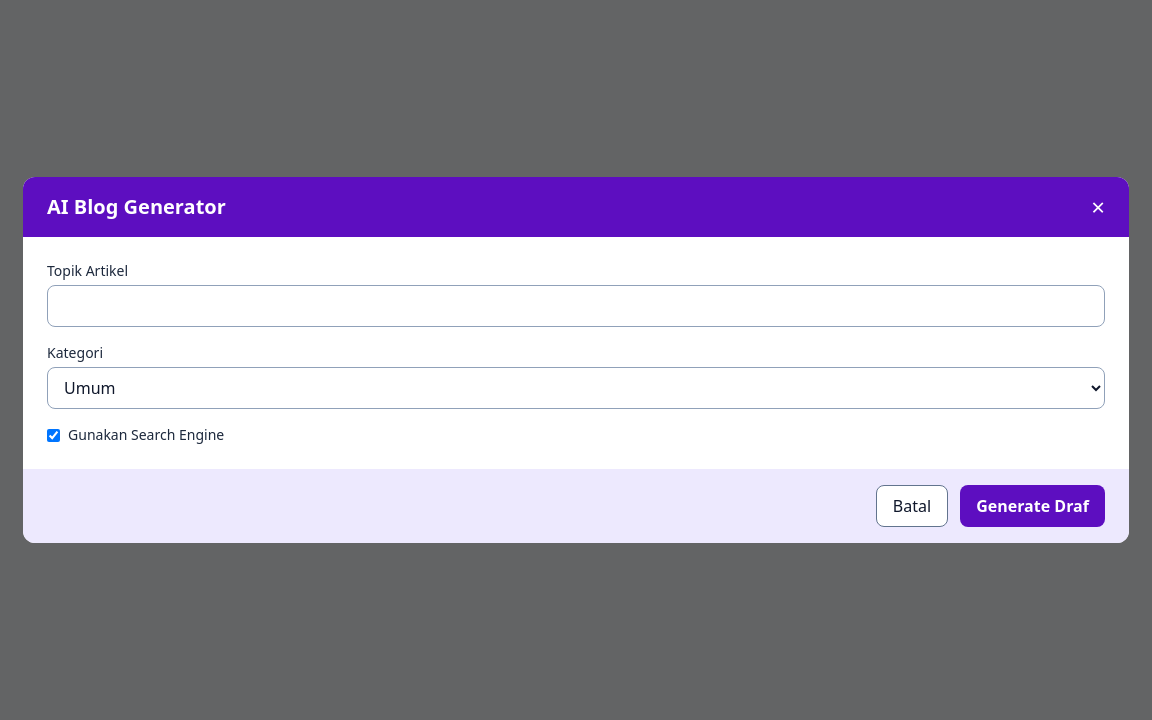
Test: AiPostGeneratorModal › menampilkan error dari API generator
Type "Topik" into the field labelled "Topik Artikel" at (576, 306), box left=47, top=285, right=1105, bottom=327
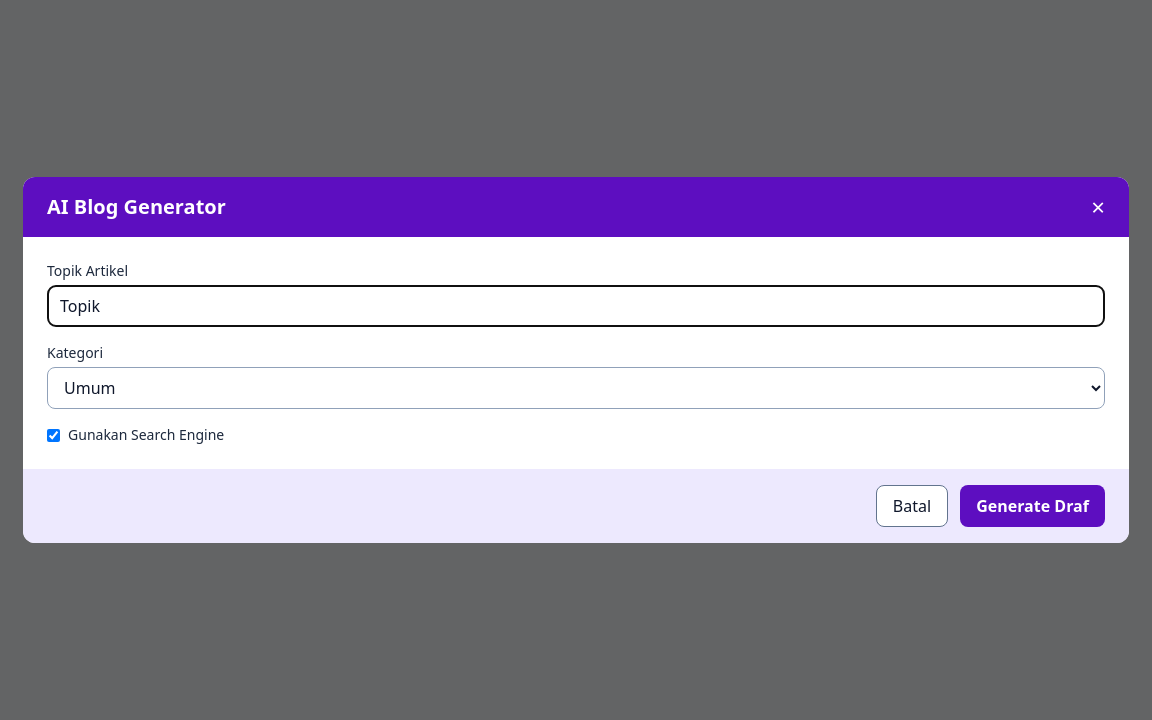
Click the button "Generate Draf" at (1032, 506), box left=960, top=485, right=1105, bottom=527
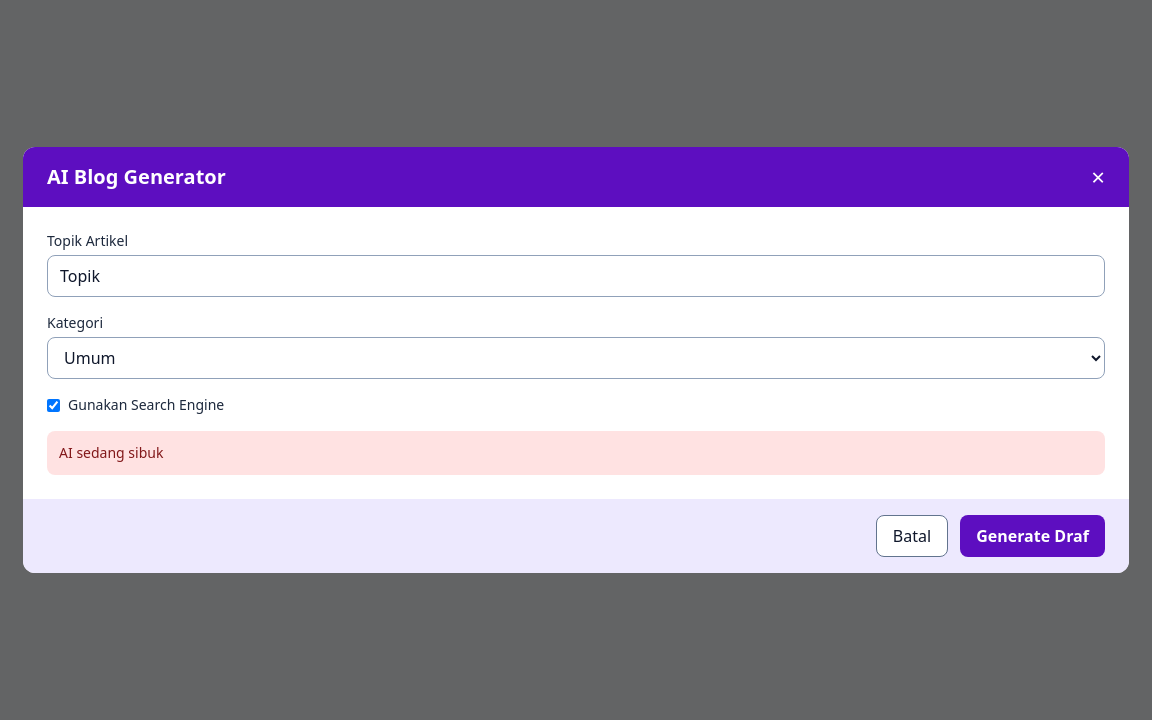
Expected: the message reads "AI sedang sibuk", left=59, top=443, right=163, bottom=462
